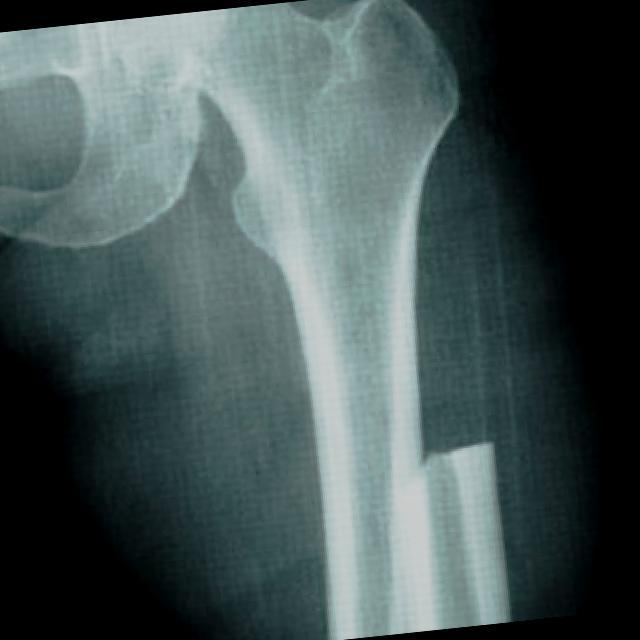Comminuted Fracture: (358, 395, 513, 483)
